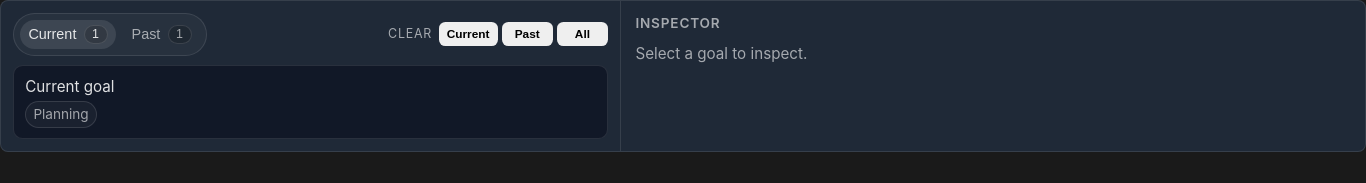
GoalsPanel › shows current/past tabs and filters completed goal groups
The image size is (1366, 183).
Expected: the tab with test id "goals-tab-filter-current" is shown, [20, 20, 116, 49]
Expected: the text "Current goal" is shown, [25, 77, 114, 96]
What coordinates should you click on to do the following:
click the tab with test id "goals-tab-filter-past"
I would click on:
 (162, 34)
Its box is [123, 20, 200, 49].
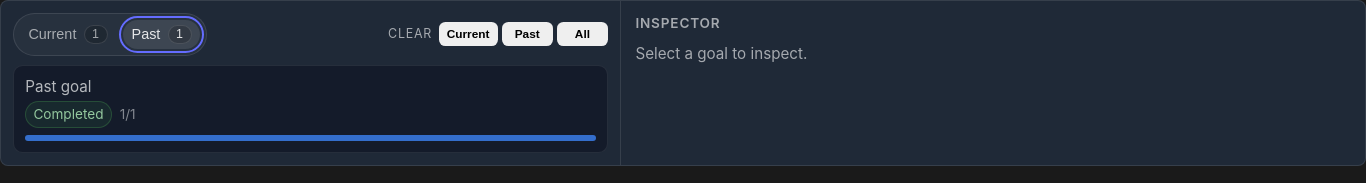
Expected: the text "Past goal" is shown, [25, 77, 92, 96]
Expected: the button "Current goal" is gone
